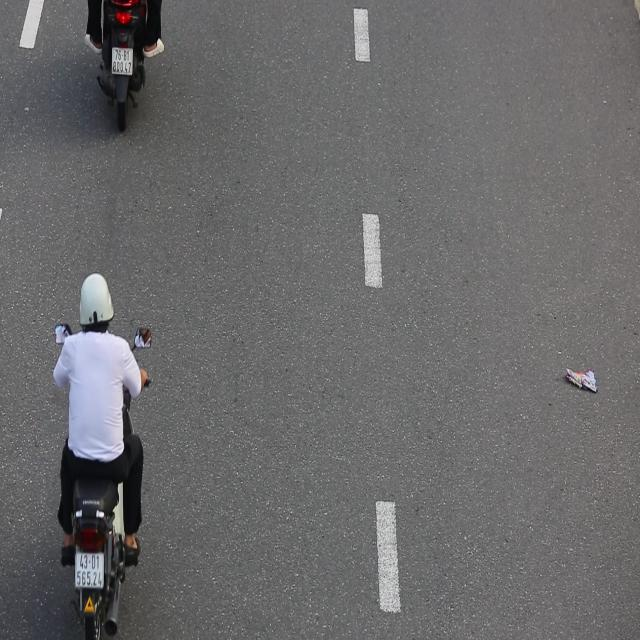motorbike: (50, 251, 153, 640)
